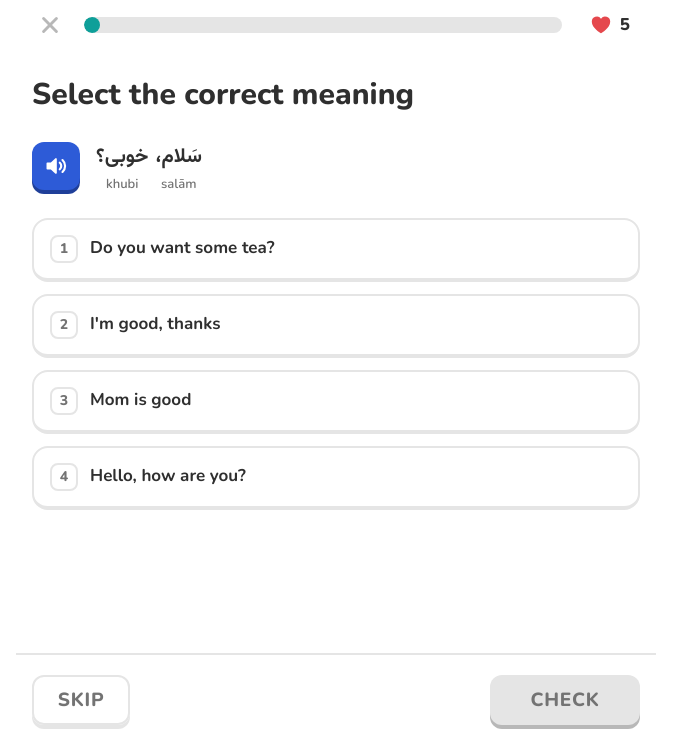
Scenario: Enter with the real renderers (ws-renderers) › Enter on the selected select_translation card (a draft exists) is CHECK
The image size is (673, 745).
Click the button "1 Do you want some tea?". click: (182, 248)
box: [32,218,640,282]
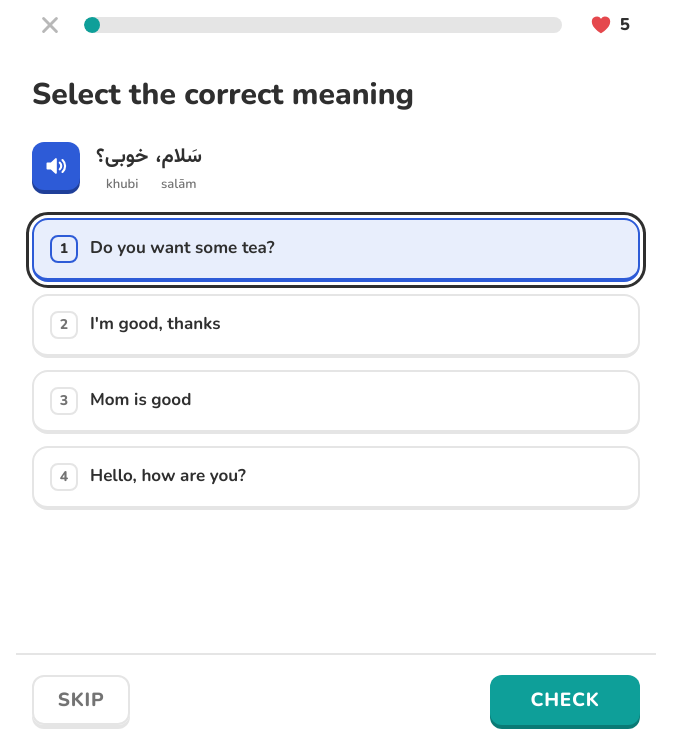
Expected: the button "1 Do you want some tea?" is pressed
Press Enter in the button "1 Do you want some tea?", box [32,218,640,282]
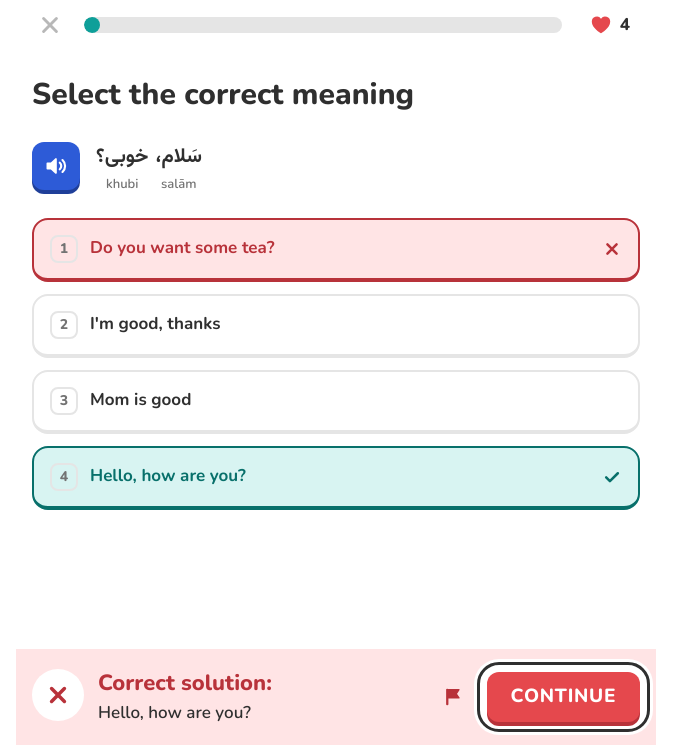
Expected: the element with test id "lesson-feedback" is shown, [16,649,656,744]
